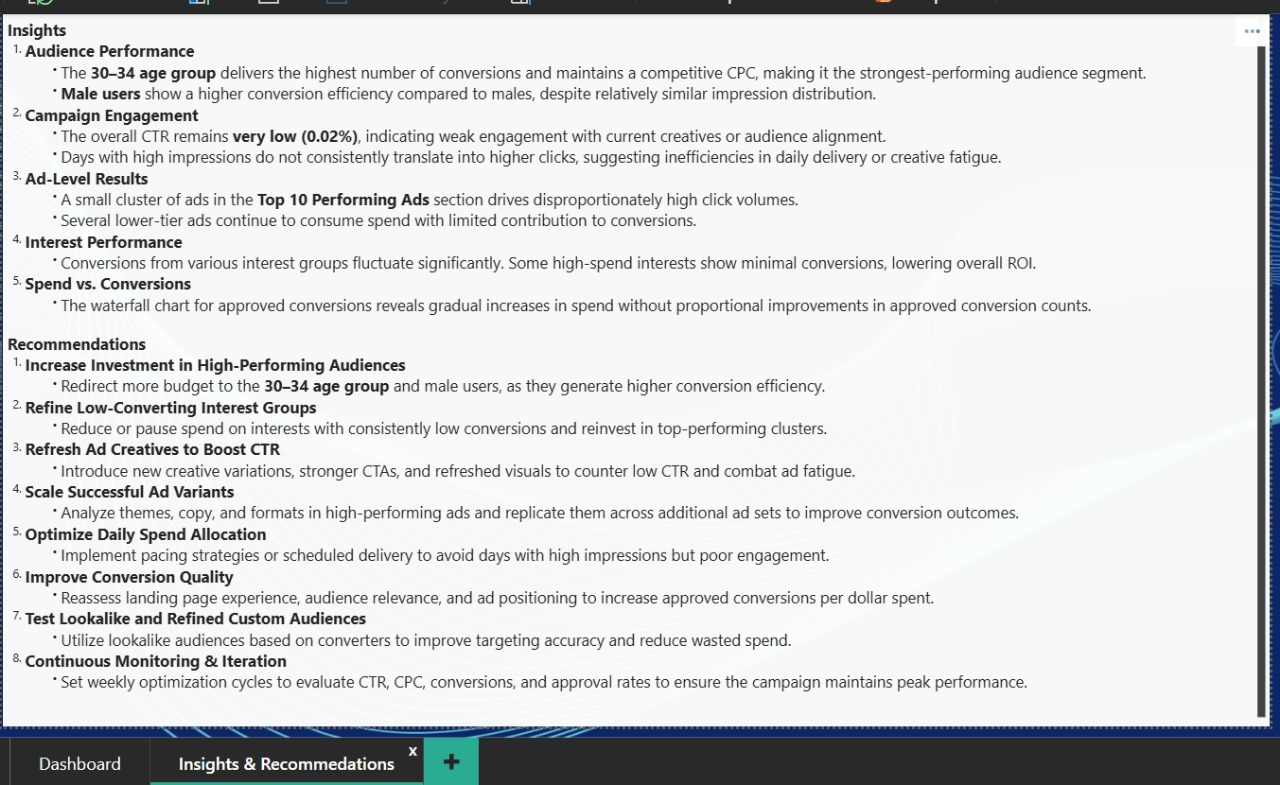

The dashboard page shown, as its layout file describes it:
{"tool":"powerbi","page":{"name":"Insights & Recommedations","canvas":[1280,720],"ordinal":1},"visuals":[{"type":"textbox","box":[0,0,1280.1,720.6],"z":0}]}

Visuals, with their boxes in screenshot pixels (x1, y1, x2, y2):
textbox: (left=0, top=10, right=1262, bottom=721)
